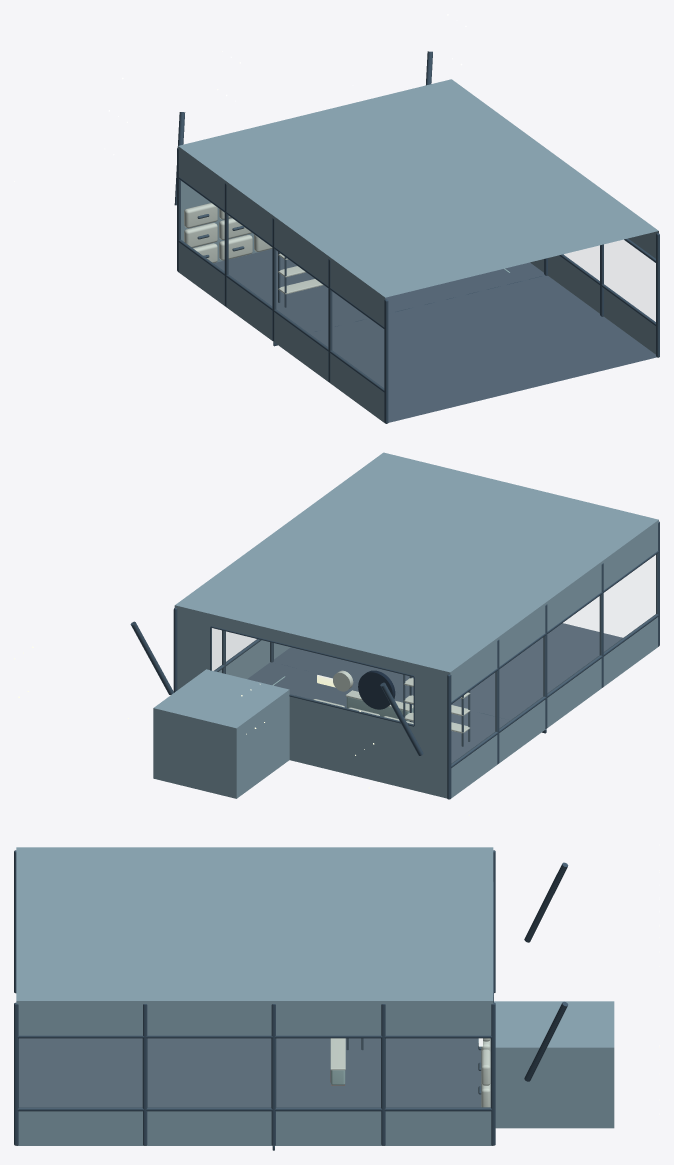
The model's file is depot.glb.
The picture shows the model from 3 angles, top to bottom: view 1: azimuth 30°, elevation 25°; view 2: azimuth 150°, elevation 25°; view 3: azimuth 270°, elevation 25°; orthographic projection. The views are drawn at different scales.
Parts seen in each view (by area): view 1: Roof panels - Wall, Floor extension - Floor, Port wall - Wall, Floor - Floor, Port wall - Rib, Starboard wall - Wall, Signature architecture - Pale, Starboard wall - Rib, Rear bulkhead - Wall; view 2: Roof panels - Wall, Rear bulkhead - Wall, Port wall - Wall, Stockroom - Wall, Floor extension - Floor, Store lid - Wall, Port wall - Rib, Floor - Floor, Starboard wall - Wall, Signature architecture - Glass rim, Rear bulkhead - Rib, Outside the glazing - Rib (+2 smaller); view 3: Roof panels - Wall, Starboard wall - Wall, Floor extension - Floor, Floor - Floor, Stockroom - Wall, Starboard wall - Rib, Store lid - Wall, Outside the glazing - Rib, Port wall - Rib, Signature architecture - Pale, Counter - Pale.
Part boxes in pixels (x1,y1,x2,y2): Roof panels - Wall: (178, 79, 658, 297); Floor extension - Floor: (309, 275, 656, 422); Port wall - Wall: (178, 146, 385, 422); Floor - Floor: (214, 249, 544, 332); Port wall - Rib: (177, 148, 388, 423); Starboard wall - Wall: (530, 231, 658, 354); Signature architecture - Pale: (184, 203, 272, 262); Starboard wall - Rib: (544, 233, 659, 357); Rear bulkhead - Wall: (181, 181, 269, 263); Roof panels - Wall: (175, 452, 658, 672); Rear bulkhead - Wall: (174, 605, 450, 798); Port wall - Wall: (450, 520, 658, 798); Stockroom - Wall: (153, 690, 289, 798); Floor extension - Floor: (273, 623, 622, 720); Store lid - Wall: (154, 669, 289, 728); Port wall - Rib: (447, 521, 659, 799); Floor - Floor: (247, 662, 510, 763); Starboard wall - Wall: (218, 640, 290, 678); Signature architecture - Glass rim: (358, 670, 395, 709); Rear bulkhead - Rib: (210, 626, 414, 726); Outside the glazing - Rib: (130, 621, 423, 755); Roof panels - Wall: (16, 847, 493, 1000); Starboard wall - Wall: (16, 1001, 493, 1145); Floor extension - Floor: (19, 1038, 271, 1107); Floor - Floor: (276, 1038, 490, 1107); Stockroom - Wall: (495, 1047, 614, 1128); Starboard wall - Rib: (14, 1002, 495, 1145); Store lid - Wall: (494, 1001, 614, 1047); Outside the glazing - Rib: (524, 862, 568, 1081); Port wall - Rib: (14, 850, 495, 993); Signature architecture - Pale: (481, 1038, 490, 1107); Counter - Pale: (330, 1038, 345, 1070).
Bounding box in the file's own units: 31.75 × 9.65 × 34.14.
